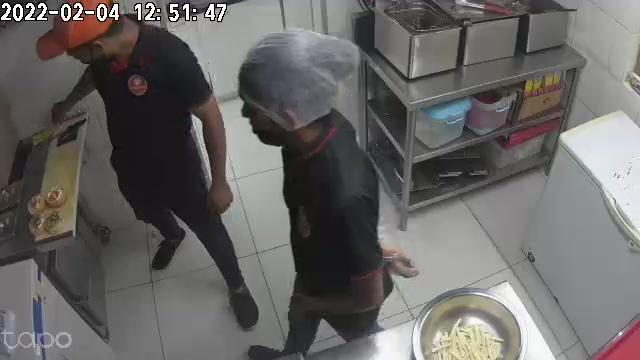no_gloves: (206, 171, 233, 213)
